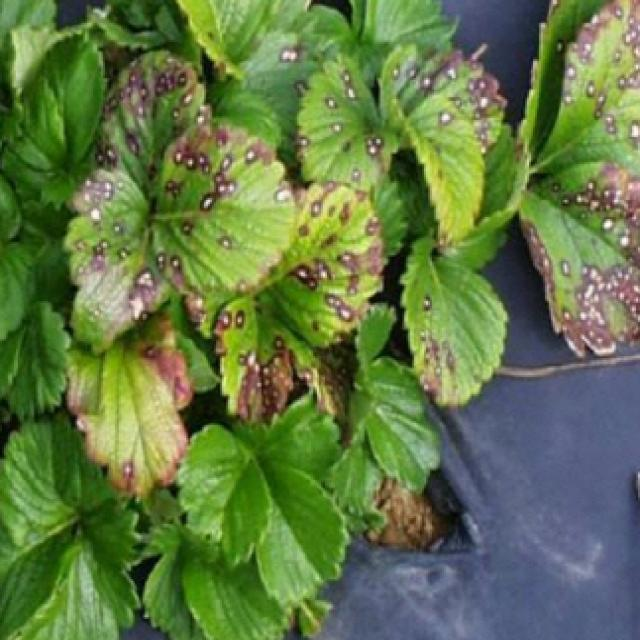Leaf Spot: (150, 121, 299, 293), (516, 160, 640, 360), (259, 184, 392, 351), (59, 169, 174, 352), (527, 0, 640, 178), (399, 236, 509, 410), (93, 49, 212, 204), (384, 92, 486, 244), (514, 0, 608, 162), (378, 40, 508, 154), (296, 50, 395, 191), (225, 30, 336, 142), (212, 292, 296, 430), (278, 324, 361, 442), (174, 0, 284, 78)
